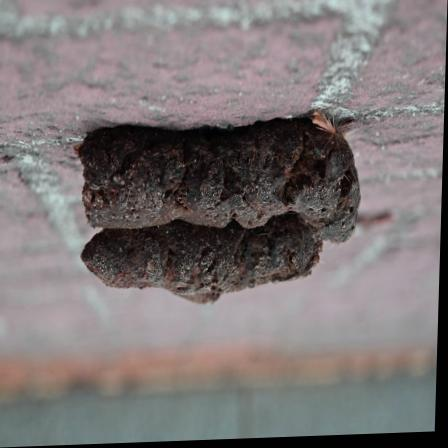dog-poop: (75, 112, 368, 318)
